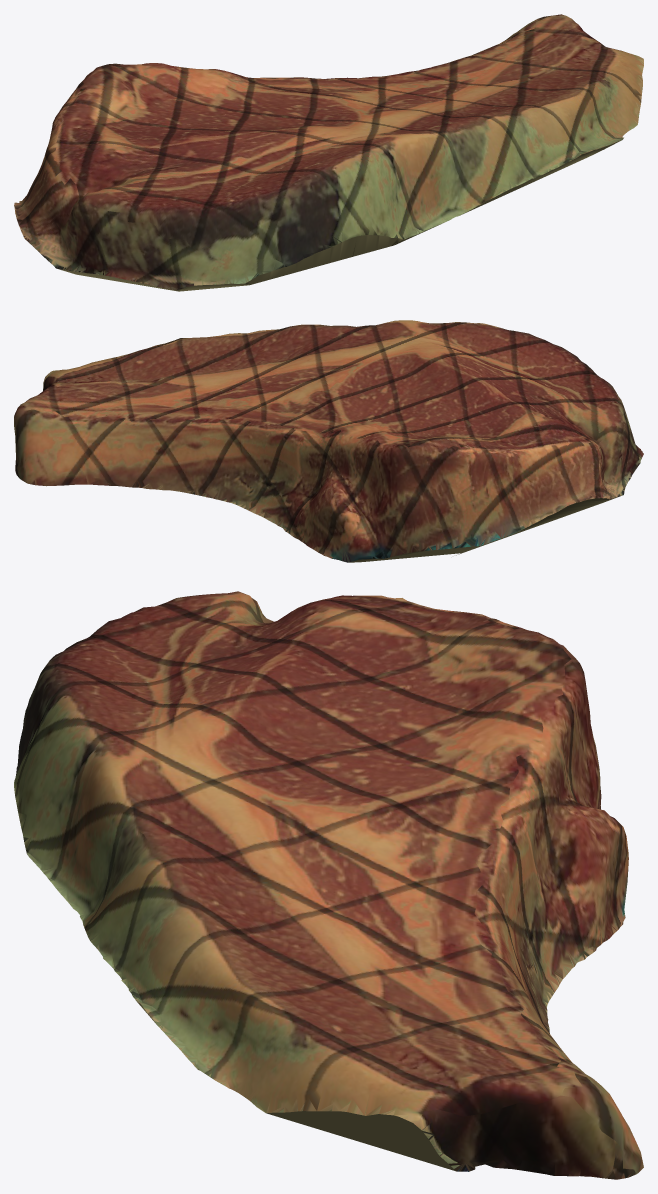
Rendered from beef_steak.glb.
3 views of the same model, one above another, from view 1: azimuth 30°, elevation 25°; view 2: azimuth 150°, elevation 25°; view 3: azimuth 270°, elevation 25° (orthographic). The views are drawn at different scales.
Parts seen in each view (by area): view 1: Object_2; view 2: Object_2; view 3: Object_2.
Part boxes in pixels (x1,y1,x2,y2): Object_2: [14, 14, 643, 291]; Object_2: [14, 320, 643, 562]; Object_2: [14, 591, 643, 1179].
Bounding box in the file's own units: 0.26 × 0.0555 × 0.1463.
Materials: 1 (1 with a texture image).
